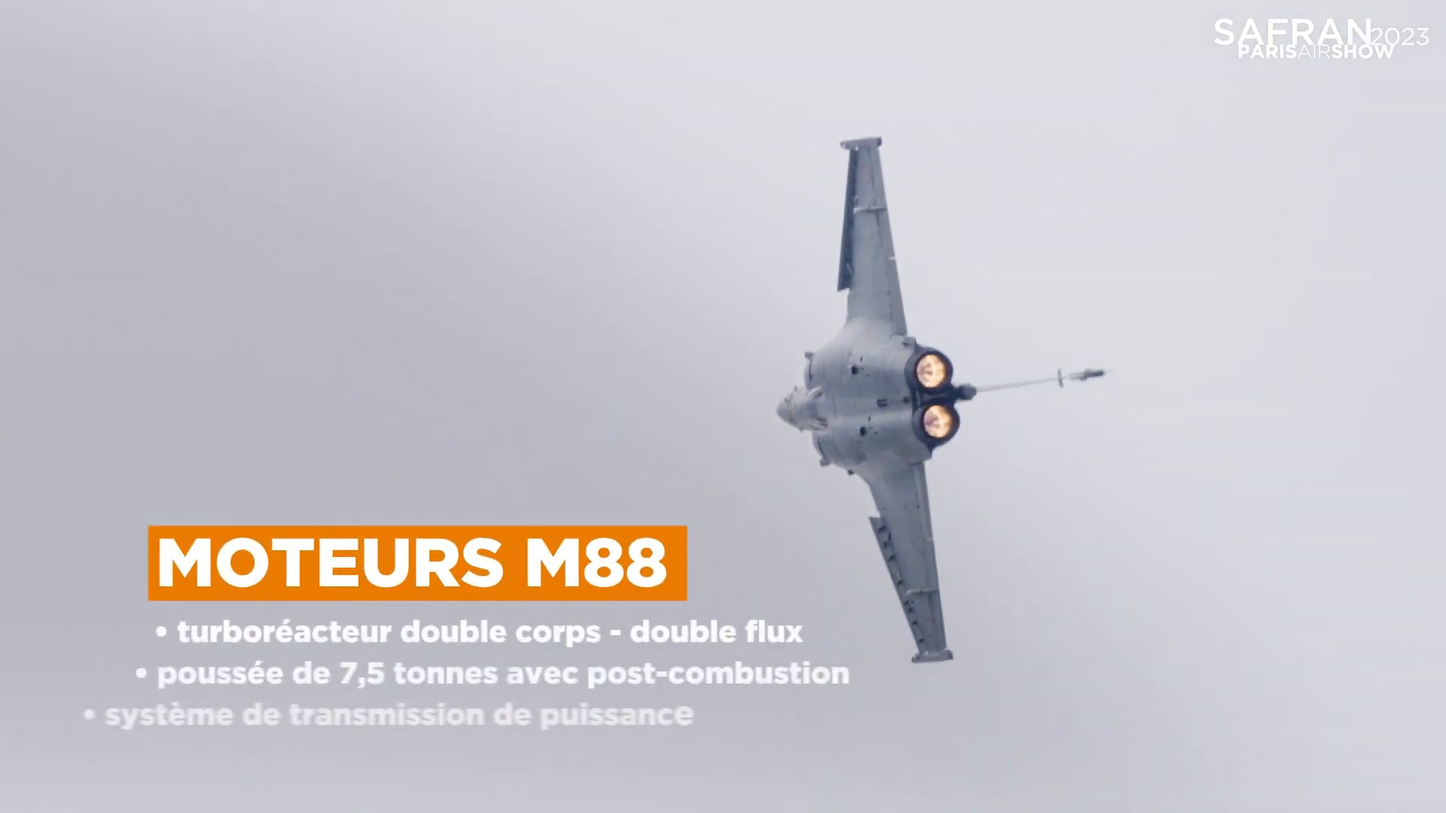Rafale: (768, 123, 1115, 671)
